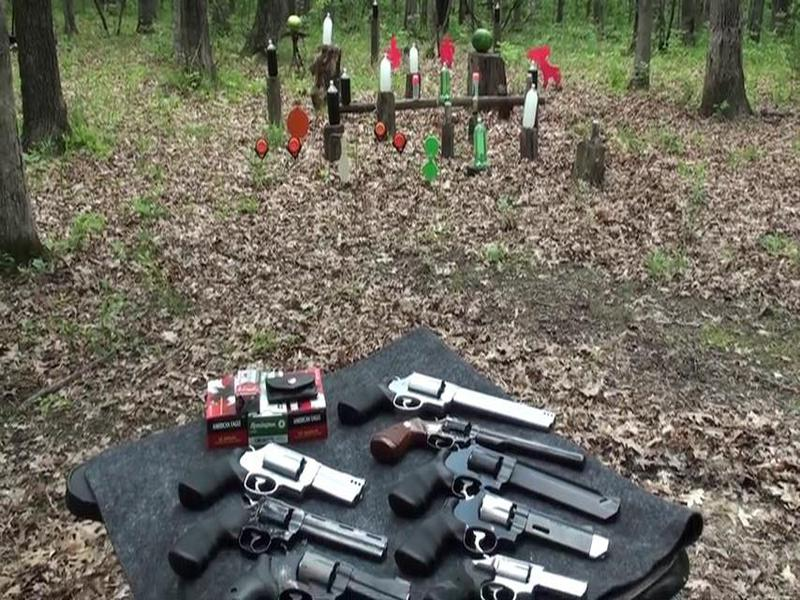Revolver: (146, 429, 379, 523), (392, 432, 629, 524), (357, 346, 559, 437)
